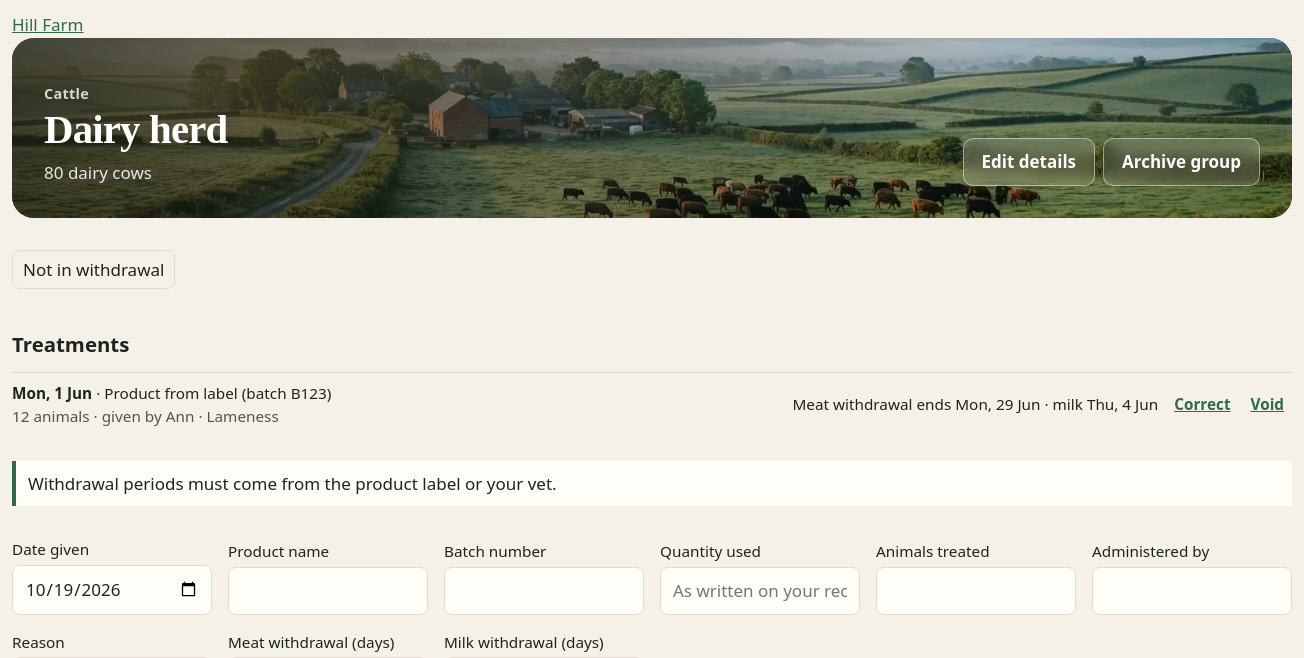
Test case: GroupPage › editing and archiving the group › opens the group's details for editing
What coordinates should you click on to do the following:
click the button "Edit details"
I would click on:
 (1029, 162)
Its box is [962, 138, 1095, 186].
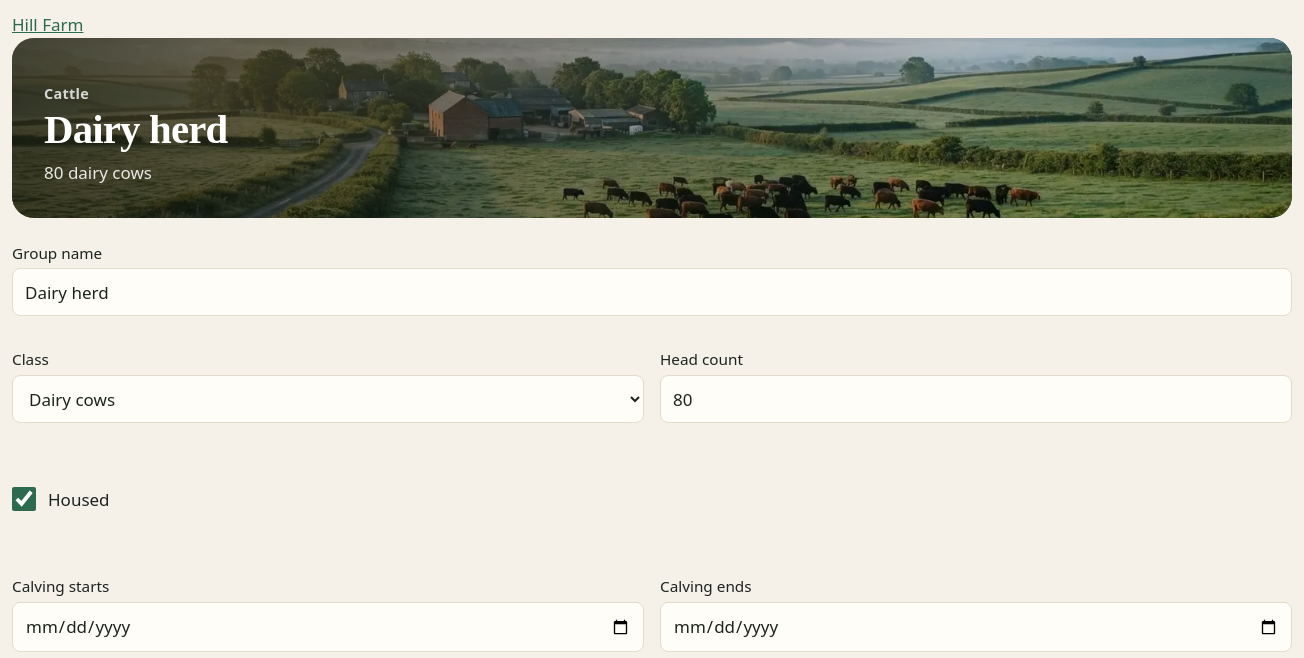
Result: the number field labelled "Head count" holds "80" at [660, 375, 1292, 423]
